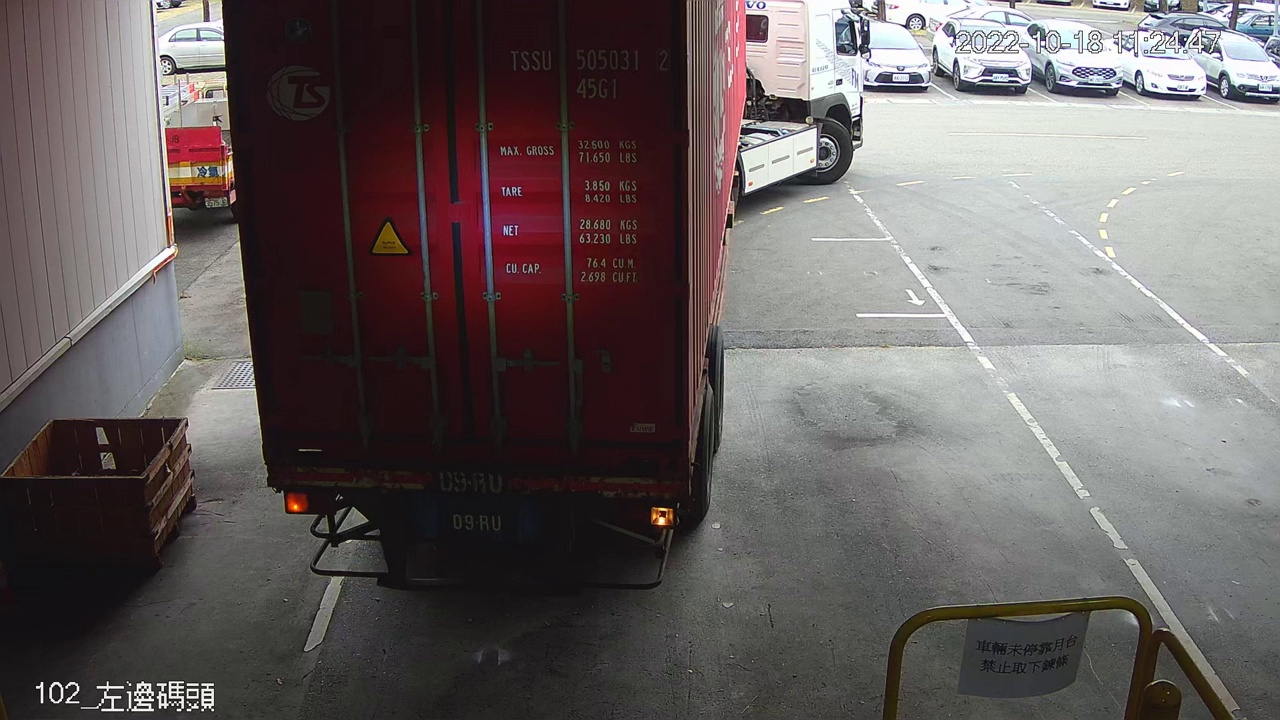container: (499, 40, 674, 106)
